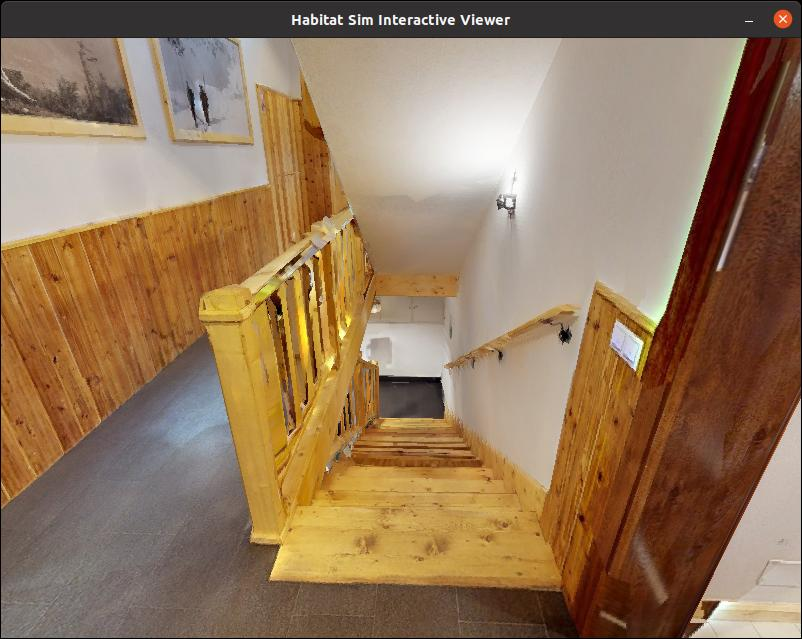stairs: (239, 221, 580, 571)
